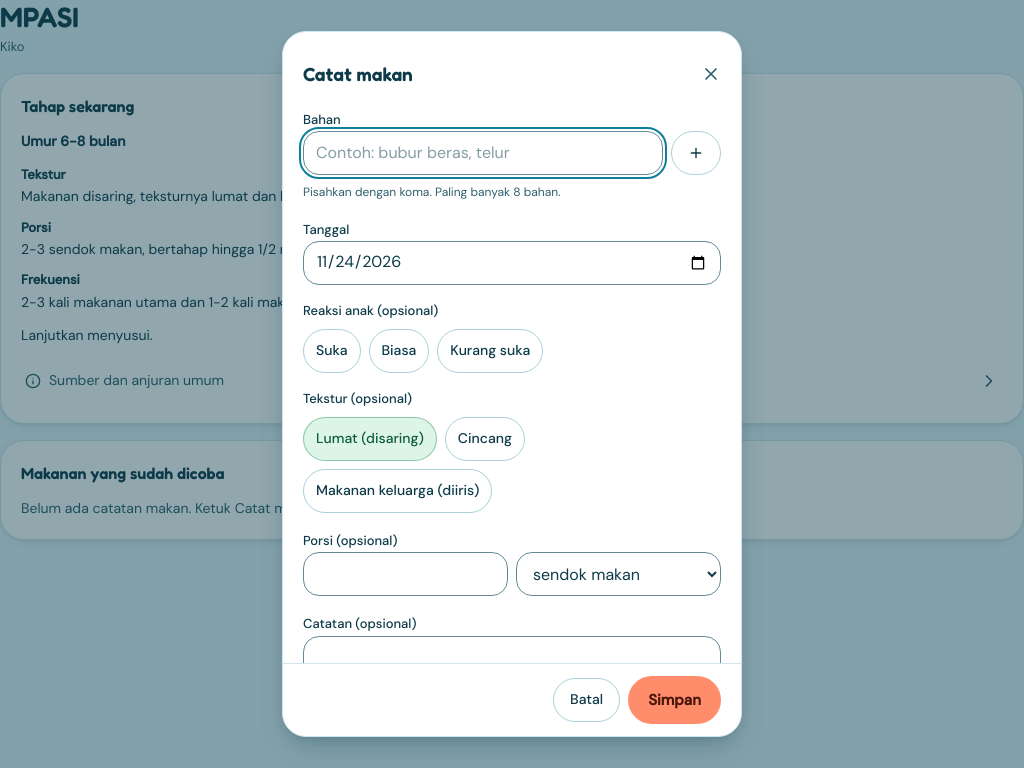
Catat makan › bahan kosong: pesan jelas dan tidak menyimpan
The width and height of the screenshot is (1024, 768).
Click the button "Simpan".
click(675, 700)  # box [628,676,721,724]
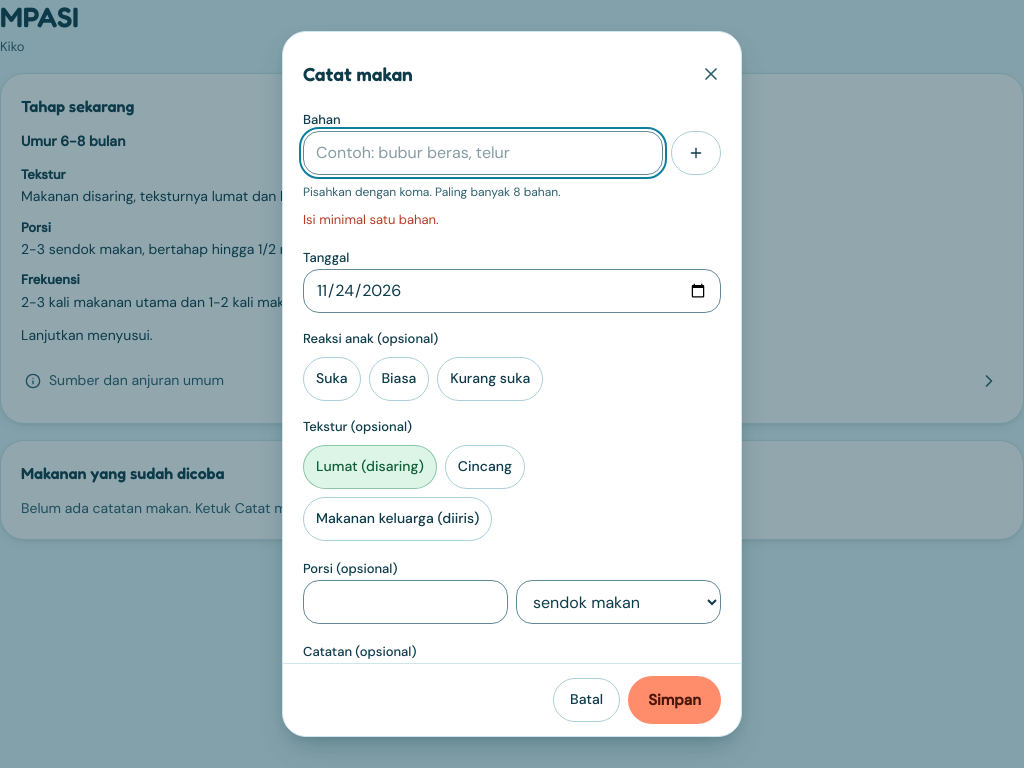
Expected: the message reads "Isi minimal satu bahan.", [303,211,439,228]
